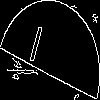I: (25, 24, 45, 73)
